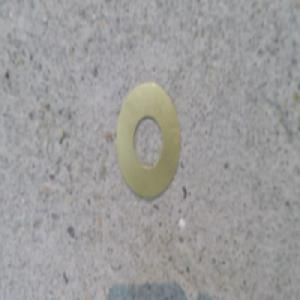Washer: (114, 85, 182, 201)
